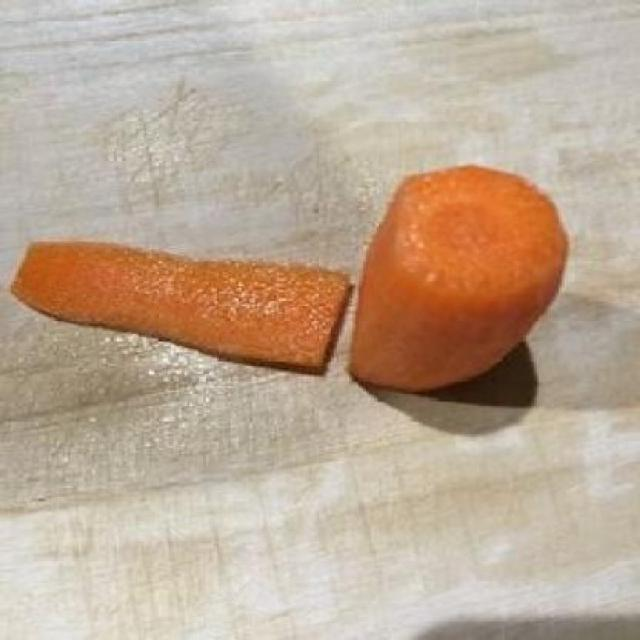carrot: (342, 152, 574, 425)
